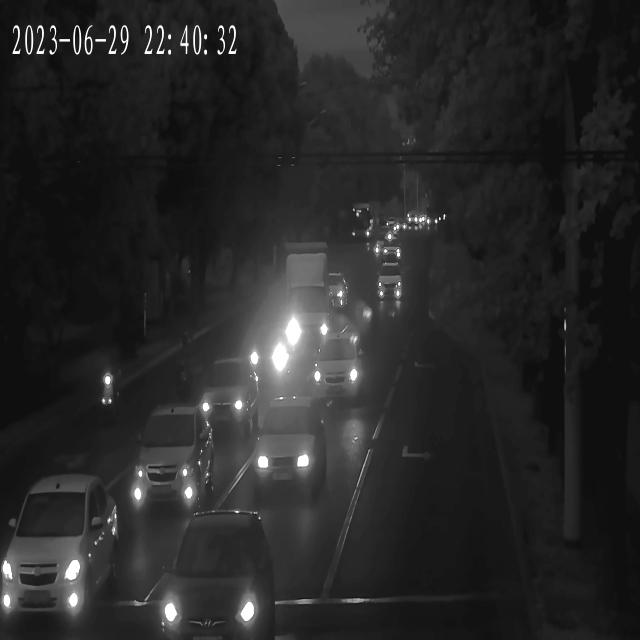Bus: (352, 202, 379, 240)
Car: (5, 475, 119, 629), (160, 514, 274, 640), (129, 405, 217, 512), (242, 397, 325, 491), (185, 359, 261, 440), (314, 338, 366, 401), (238, 330, 292, 380), (376, 264, 403, 300), (326, 273, 351, 310), (379, 239, 401, 260)
Truck: (286, 250, 328, 361)
